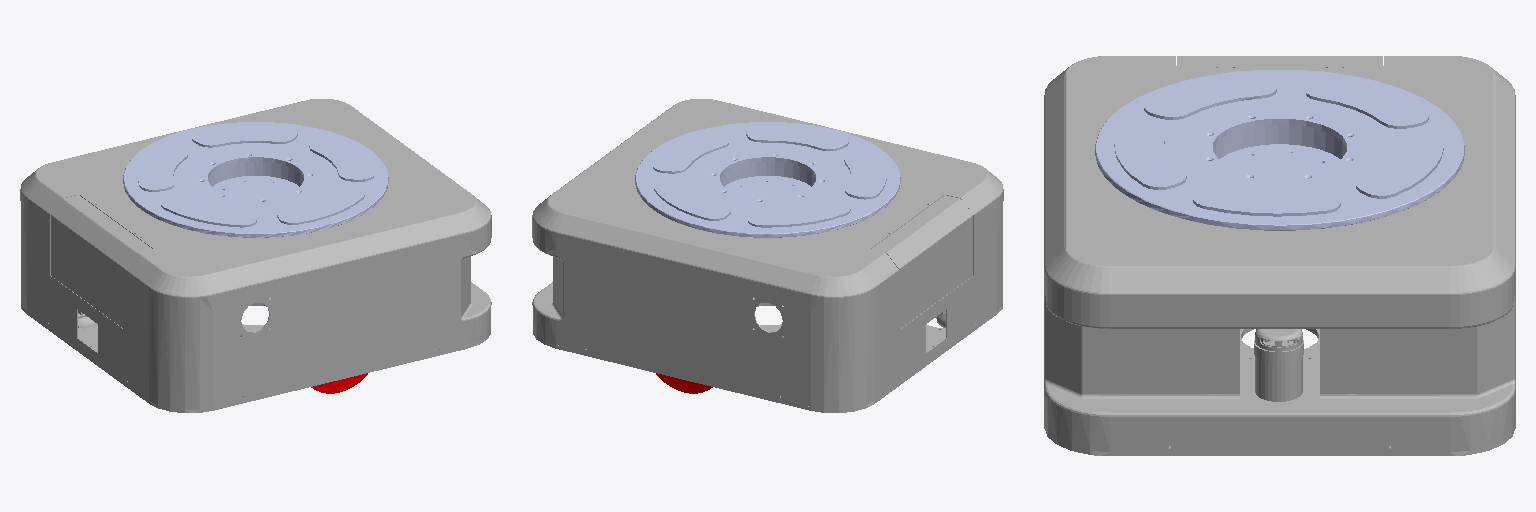
The robot description file, URDF, robot "agv0509test6":
<?xml version="1.0" encoding="utf-8"?>
<!-- This URDF was automatically created by SolidWorks to URDF Exporter! Originally created by [author] ([email redacted]) 
     Commit Version: 1.6.0-4-g7f85cfe  Build Version: 1.6.7995.38578
     For more information, please see http://wiki.ros.org/sw_urdf_exporter -->
<robot
  name="agv0509test6">
  <link
    name="Base_footprint">
    <inertial>
      <origin
        xyz="0.0050723 -0.00081998 0.13138"
        rpy="0 0 0" />
      <mass
        value="9.8448" />
      <inertia
        ixx="0.51144"
        ixy="4.6267E-05"
        ixz="0.001146"
        iyy="0.6181"
        iyz="3.4331E-05"
        izz="1.0517" />
    </inertial>
    <visual>
      <origin
        xyz="0 0 0"
        rpy="0 0 0" />
      <geometry>
        <mesh
          filename="package://agv0509test6/meshes/Base_footprint.stl" />
      </geometry>
      <material
        name="">
        <color
          rgba="0.75294 0.75294 0.75294 1" />
      </material>
    </visual>
    <collision>
      <origin
        xyz="0 0 0"
        rpy="0 0 0" />
      <geometry>
        <mesh
          filename="package://agv0509test6/meshes/Base_footprint.stl" />
      </geometry>
    </collision>
  </link>
  <link
    name="Base_Link">
    <inertial>
      <origin
        xyz="-6.1479E-05 -0.014856 0.039725"
        rpy="0 0 0" />
      <mass
        value="10.228" />
      <inertia
        ixx="0.51173"
        ixy="4.6267E-05"
        ixz="0.001146"
        iyy="0.61846"
        iyz="3.4331E-05"
        izz="1.0521" />
    </inertial>
    <visual>
      <origin
        xyz="0 0 0"
        rpy="0 0 0" />
      <geometry>
        <mesh
          filename="package://agv0509test6/meshes/Base_Link.stl" />
      </geometry>
      <material
        name="">
        <color
          rgba="0.75294 0.75294 0.75294 1" />
      </material>
    </visual>
    <collision>
      <origin
        xyz="0 0 0"
        rpy="0 0 0" />
      <geometry>
        <mesh
          filename="package://agv0509test6/meshes/Base_Link.stl" />
      </geometry>
    </collision>
  </link>
  <joint
    name="Base_Link_jt"
    type="fixed">
    <origin
      xyz="0.0175 0.014007 0.0925"
      rpy="0 0 0" />
    <parent
      link="Base_footprint" />
    <child
      link="Base_Link" />
    <axis
      xyz="0 0 0" />
  </joint>
  <link
    name="Right_Wheel">
    <inertial>
      <origin
        xyz="-5.5511E-17 -0.019997 -1.1102E-16"
        rpy="0 0 0" />
      <mass
        value="0.8908" />
      <inertia
        ixx="0.0029235"
        ixy="4.9337E-19"
        ixz="-6.3874E-20"
        iyy="0.0056311"
        iyz="2.1347E-18"
        izz="0.0029235" />
    </inertial>
    <visual>
      <origin
        xyz="0 0 0"
        rpy="0 0 0" />
      <geometry>
        <mesh
          filename="package://agv0509test6/meshes/Right_Wheel.stl" />
      </geometry>
      <material
        name="">
        <color
          rgba="1 0 0 1" />
      </material>
    </visual>
    <collision>
      <origin
        xyz="0 0 0"
        rpy="0 0 0" />
      <geometry>
        <mesh
          filename="package://agv0509test6/meshes/Right_Wheel.stl" />
      </geometry>
    </collision>
  </link>
  <joint
    name="Right_Wheel_jt"
    type="continuous">
    <origin
      xyz="-0.0055011 -0.30701 0.0075"
      rpy="0 0 0" />
    <parent
      link="Base_Link" />
    <child
      link="Right_Wheel" />
    <axis
      xyz="0 1 0" />
    <limit
      effort="3"
      velocity="8" />
    <dynamics
      friction="0.2" />
  </joint>
  <link
    name="Left_Wheel">
    <inertial>
      <origin
        xyz="0 0.019997 -1.1102E-16"
        rpy="0 0 0" />
      <mass
        value="0.8908" />
      <inertia
        ixx="0.0029235"
        ixy="-2.6974E-18"
        ixz="7.6101E-20"
        iyy="0.0056311"
        iyz="-8.9984E-18"
        izz="0.0029235" />
    </inertial>
    <visual>
      <origin
        xyz="0 0 0"
        rpy="0 0 0" />
      <geometry>
        <mesh
          filename="package://agv0509test6/meshes/Left_Wheel.stl" />
      </geometry>
      <material
        name="">
        <color
          rgba="1 0 0 1" />
      </material>
    </visual>
    <collision>
      <origin
        xyz="0 0 0"
        rpy="0 0 0" />
      <geometry>
        <mesh
          filename="package://agv0509test6/meshes/Left_Wheel.stl" />
      </geometry>
    </collision>
  </link>
  <joint
    name="Left_Wheel_jt"
    type="continuous">
    <origin
      xyz="-0.0055001 0.27899 0.0075"
      rpy="0 0 0" />
    <parent
      link="Base_Link" />
    <child
      link="Left_Wheel" />
    <axis
      xyz="0 1 0" />
    <limit
      effort="3"
      velocity="8" />
    <dynamics
      friction="0.2" />
  </joint>
  <link
    name="Lidar">
    <inertial>
      <origin
        xyz="-0.00056511 -1.4968E-05 0.019299"
        rpy="0 0 0" />
      <mass
        value="0.16538" />
      <inertia
        ixx="7.8866E-05"
        ixy="4.8738E-08"
        ixz="2.1848E-06"
        iyy="7.519E-05"
        iyz="2.8958E-08"
        izz="0.00010995" />
    </inertial>
    <visual>
      <origin
        xyz="0 0 0"
        rpy="0 0 0" />
      <geometry>
        <mesh
          filename="package://agv0509test6/meshes/Lidar.stl" />
      </geometry>
      <material
        name="">
        <color
          rgba="0.75294 0.75294 0.75294 0.4" />
      </material>
    </visual>
    <collision>
      <origin
        xyz="0 0 0"
        rpy="0 0 0" />
      <geometry>
        <mesh
          filename="package://agv0509test6/meshes/Lidar.stl" />
      </geometry>
    </collision>



  </link>
  <joint
    name="Lidar_jt"
    type="fixed">
    <origin
      xyz="0.3305 -0.015607 0.094"
      rpy="0 0 0" />
    <parent
      link="Base_Link" />
    <child
      link="Lidar" />
    <axis
      xyz="0 0 0" />
  </joint>
  <link
    name="Mam_xoay">
    <inertial>
      <origin
        xyz="-0.00031092 -0.00080851 -0.022422"
        rpy="0 0 0" />
      <mass
        value="3.4989" />
      <inertia
        ixx="0.063931"
        ixy="-1.6423E-07"
        ixz="1.0885E-06"
        iyy="0.06393"
        iyz="2.8306E-06"
        izz="0.12544" />
    </inertial>
    <visual>
      <origin
        xyz="0 0 0"
        rpy="0 0 0" />
      <geometry>
        <mesh
          filename="package://agv0509test6/meshes/Mam_xoay.stl" />
      </geometry>
      <material
        name="">
        <color
          rgba="0.79216 0.81961 0.93333 1" />
      </material>
    </visual>
    <collision>
      <origin
        xyz="0 0 0"
        rpy="0 0 0" />
      <geometry>
        <mesh
          filename="package://agv0509test6/meshes/Mam_xoay.stl" />
      </geometry>
    </collision>
  </link>
  <joint
    name="Mam_xoay_jt"
    type="fixed">
    <origin
      xyz="-0.017238 -0.013326 0.27615"
      rpy="0 0 0" />
    <parent
      link="Base_Link" />
    <child
      link="Mam_xoay" />
    <axis
      xyz="0 0 1" />
    <limit
      lower="0"
      upper="360"
      effort="0"
      velocity="0" />
  </joint>

      <!-- Sensor khai báo trực tiếp trong link -->

  <gazebo reference="Lidar">    
    <sensor type="gpu_lidar" name="gpu_lidar">
      <update_rate>10</update_rate>
      <always_on>true</always_on>
      <visualize>1</visualize>
      <topic>scan</topic>
      <ignition_frame_id>Lidar</ignition_frame_id>
      <lidar>
        <scan>
          <horizontal>
            <samples>720</samples>
            <resolution>1</resolution>
            <min_angle>-3.14159</min_angle>
            <max_angle>3.14159</max_angle>
          </horizontal>
        </scan>
        <range>
          <min>0.05</min>
          <max>12.0</max>
          <resolution>0.01</resolution>
        </range>

        <noise>
          <type>gaussian</type>
          <mean>0.0</mean>
          <stddev>0.001</stddev>
        </noise>

      </lidar>
      
      <plugin filename="libignition-gazebo-sensors-system.so"
            name="ignition::gazebo::systems::Sensors">
        <render_engine>ogre2</render_engine>
      </plugin>

    </sensor>
  </gazebo>  
  <!-- DiffDrive: nhận /cmd_vel, điều khiển 2 bánh -->
  <gazebo>
    <plugin filename="ignition-gazebo-diff-drive-system"
            name="ignition::gazebo::systems::DiffDrive">
      <left_joint>Left_Wheel_jt</left_joint>
      <right_joint>Right_Wheel_jt</right_joint>
      <wheel_separation>0.586</wheel_separation>
      <wheel_radius>0.1</wheel_radius>
      <topic>cmd_vel</topic>
      <max_linear_acceleration>5.0</max_linear_acceleration>
      <max_angular_acceleration>5.0</max_angular_acceleration>
      <odometry_publisher>true</odometry_publisher>
      <publish_tf>false</publish_tf>
      <odom_topic>odom</odom_topic>
      <odom_frame>odom</odom_frame>
      <odom_publish_frequency>30</odom_publish_frequency>
      <publish_tf>false</publish_tf>
      <frame_id>odom</frame_id>
      <child_frame_id>Base_footprint</child_frame_id>

      <robot_base_frame>Base_footprint</robot_base_frame>
    </plugin>
  </gazebo>
</robot>

--- Facts derived from the render (not from the file) ---
Views: 3 orthographic renders of the robot side by side, from view 1: azimuth 30°, elevation 25°; view 2: azimuth 150°, elevation 25°; view 3: azimuth 270°, elevation 25°.
Robot: agv0509test6 — 6 links, 5 joints (2 continuous, 3 fixed); root link Base_footprint; default pose: every joint at zero.
Links seen in each view (by area): view 1: Base_Link, Base_footprint, Mam_xoay; view 2: Base_footprint, Mam_xoay, Base_Link; view 3: Base_Link, Base_footprint, Mam_xoay, Lidar.
Link boxes in pixels (x1,y1,x2,y2): Base_Link: (24,99,491,412); Base_footprint: (20,99,488,412); Mam_xoay: (123,122,388,237); Base_footprint: (532,99,1003,412); Mam_xoay: (635,122,900,237); Base_Link: (534,99,1003,406); Base_Link: (1044,56,1511,455); Base_footprint: (1049,56,1515,455); Mam_xoay: (1095,70,1464,230); Lidar: (1254,329,1303,363).
Size in the robot's own frame: 0.82 by 0.714 by 0.3737 metres.
Meshes: 6 distinct files referenced, 6 mesh visuals loaded (6 binary STL).
